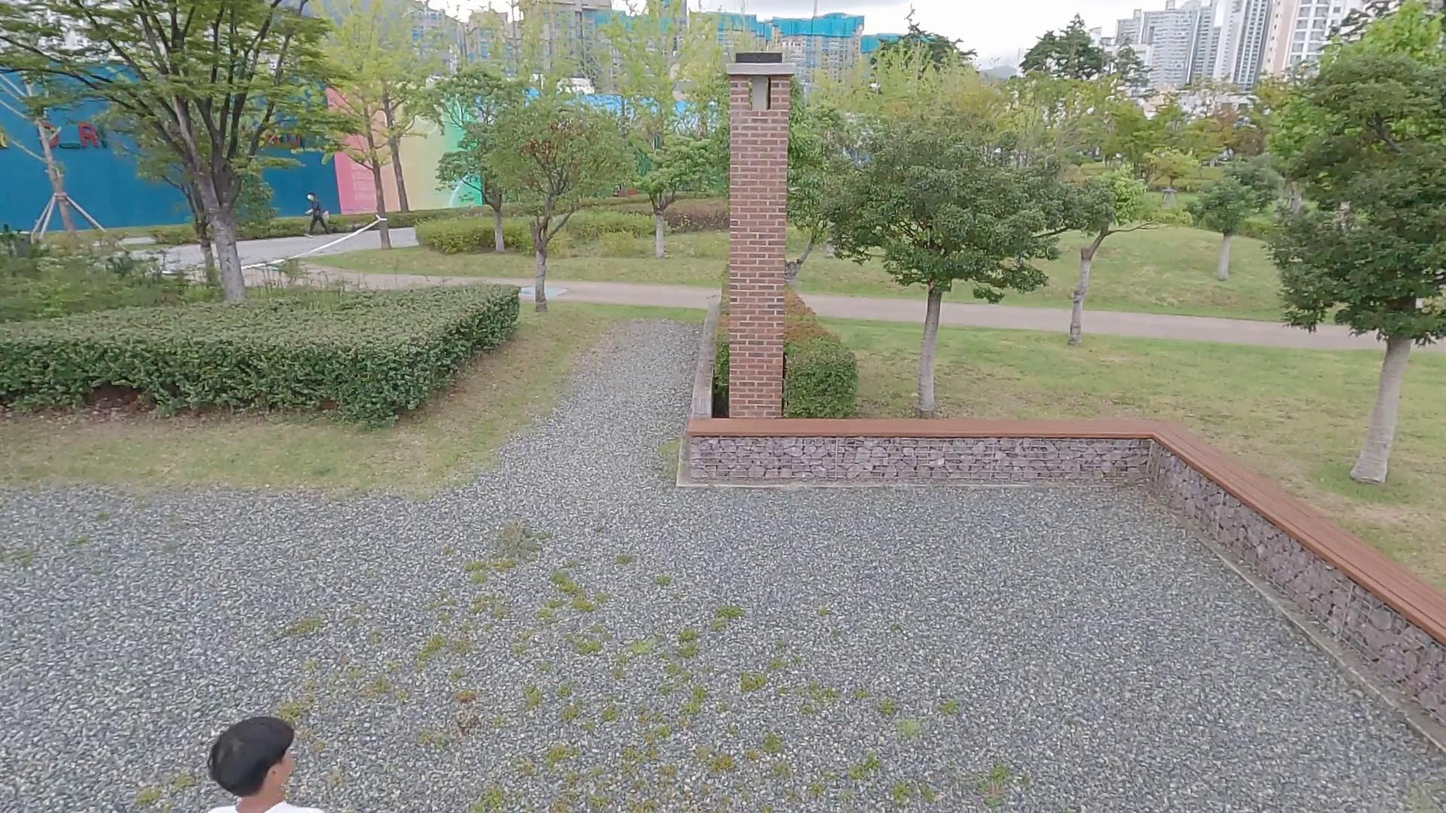person: (182, 711, 345, 813), (304, 189, 332, 239)
